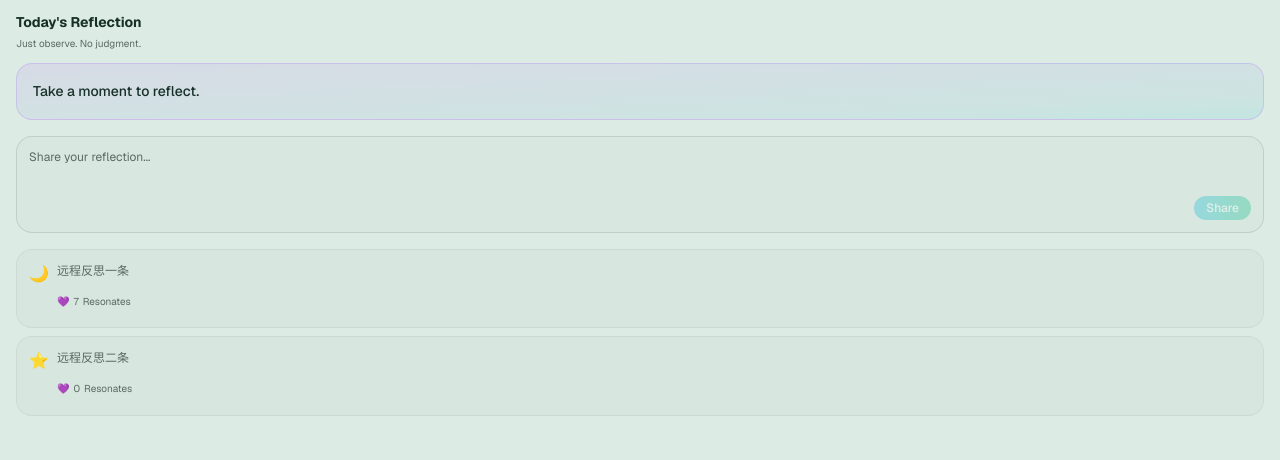
Test: DailyReflection 每日反思墙 › 提交失败: 显示错误信息
Expected: the text "远程反思一条" is shown, [57, 263, 129, 279]
Step 1. Type "x" into the text box with placeholder "Share your reflection..." → (640, 165), box [29, 149, 1251, 181]
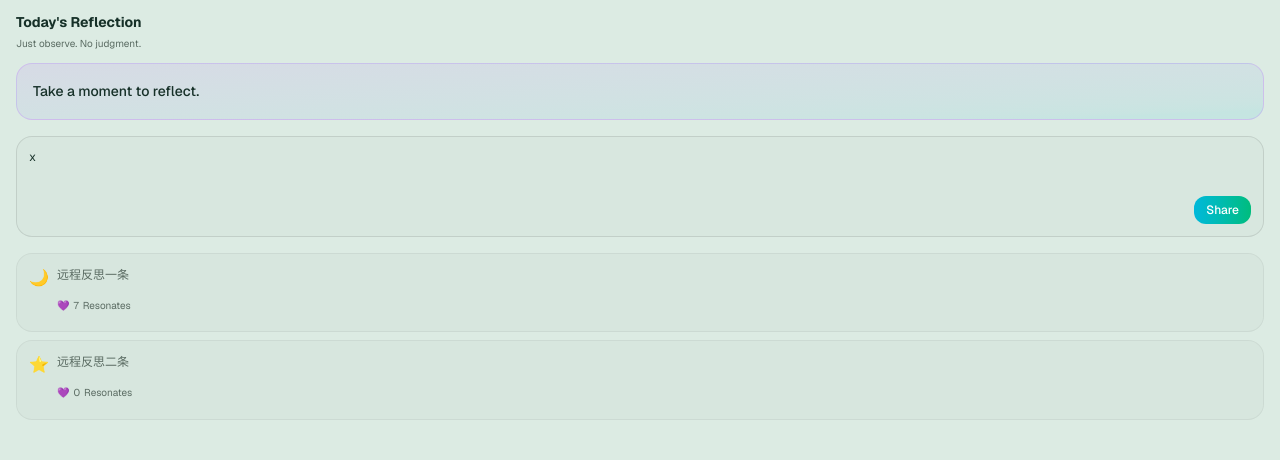
Step 2. Click the button "Share" → (1223, 210), box [1194, 196, 1251, 224]
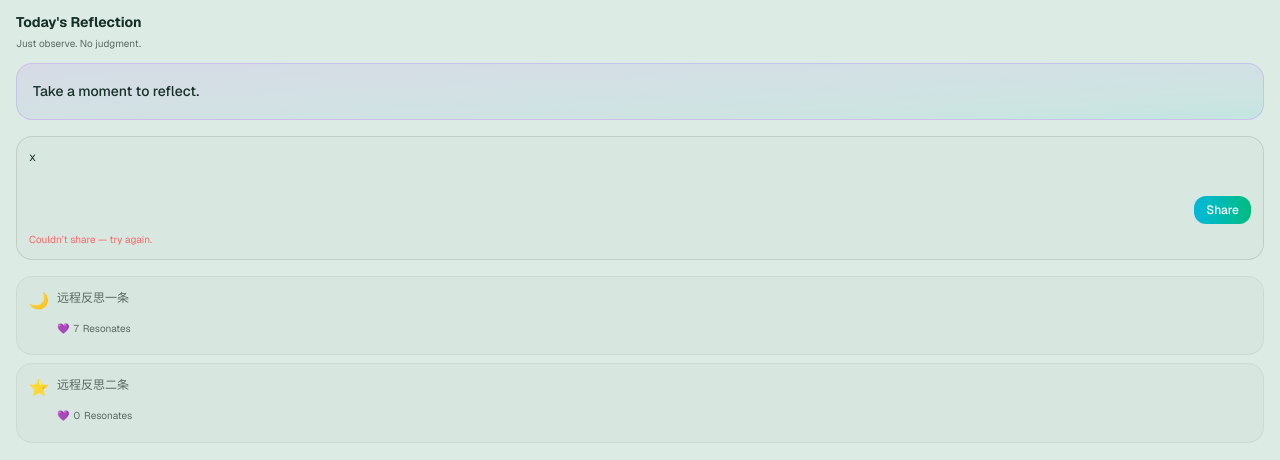
Result: the text "Couldn’t share — try again." is shown at [29, 233, 152, 246]
